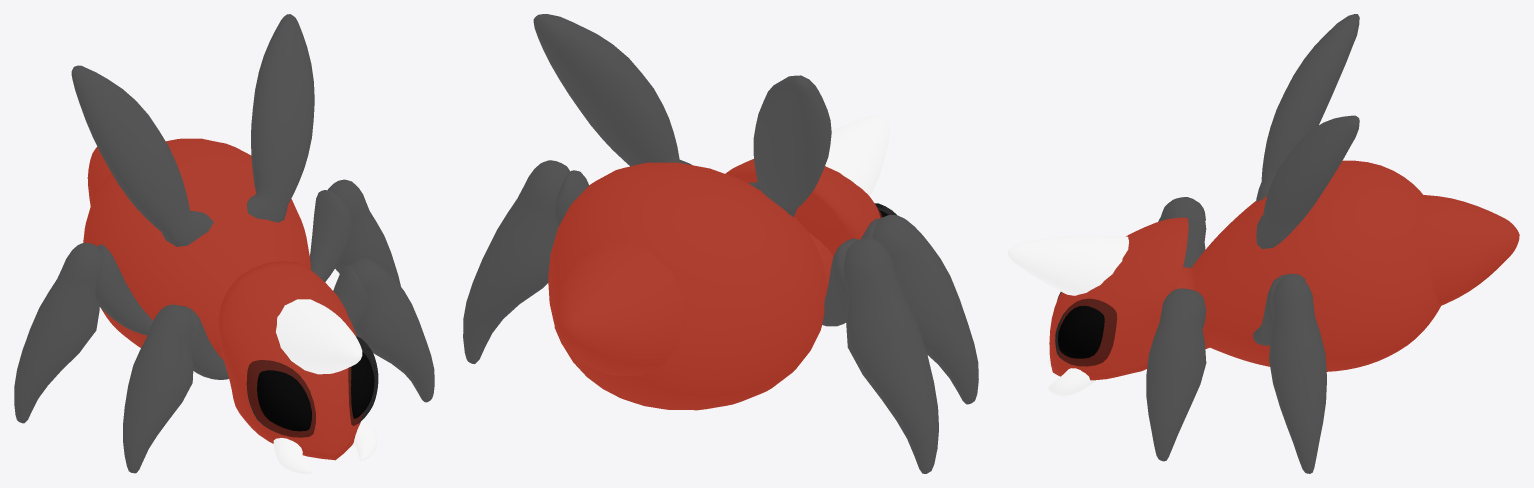
Rendered from cha_16.glb.
The picture shows the model from 3 angles, left to right: view 1: azimuth 30°, elevation 25°; view 2: azimuth 150°, elevation 25°; view 3: azimuth 270°, elevation 25°; orthographic projection. The views are drawn at different scales.
Visible parts, largest first — view 1: Object_35, Object_38, Object_36, Object_39, Object_37, Object_40; view 2: Object_38, Object_35, Object_36; view 3: Object_38, Object_35, Object_36, Object_39, Object_37.
Boxes of the visible parts, x1=… form: Object_35: x1=14, y1=14, x2=434, y2=473; Object_38: x1=83, y1=138, x2=363, y2=460; Object_36: x1=273, y1=299, x2=377, y2=473; Object_39: x1=246, y1=336, x2=378, y2=437; Object_37: x1=257, y1=352, x2=374, y2=431; Object_40: x1=246, y1=336, x2=378, y2=433; Object_38: x1=548, y1=159, x2=882, y2=410; Object_35: x1=463, y1=14, x2=978, y2=473; Object_36: x1=825, y1=115, x2=890, y2=196; Object_38: x1=1049, y1=160, x2=1519, y2=380; Object_35: x1=1146, y1=14, x2=1359, y2=473; Object_36: x1=1007, y1=235, x2=1128, y2=396; Object_39: x1=1055, y1=292, x2=1116, y2=366; Object_37: x1=1058, y1=305, x2=1104, y2=358.
Size of the model in its own units: 11.53 by 9.37 by 13.4.
